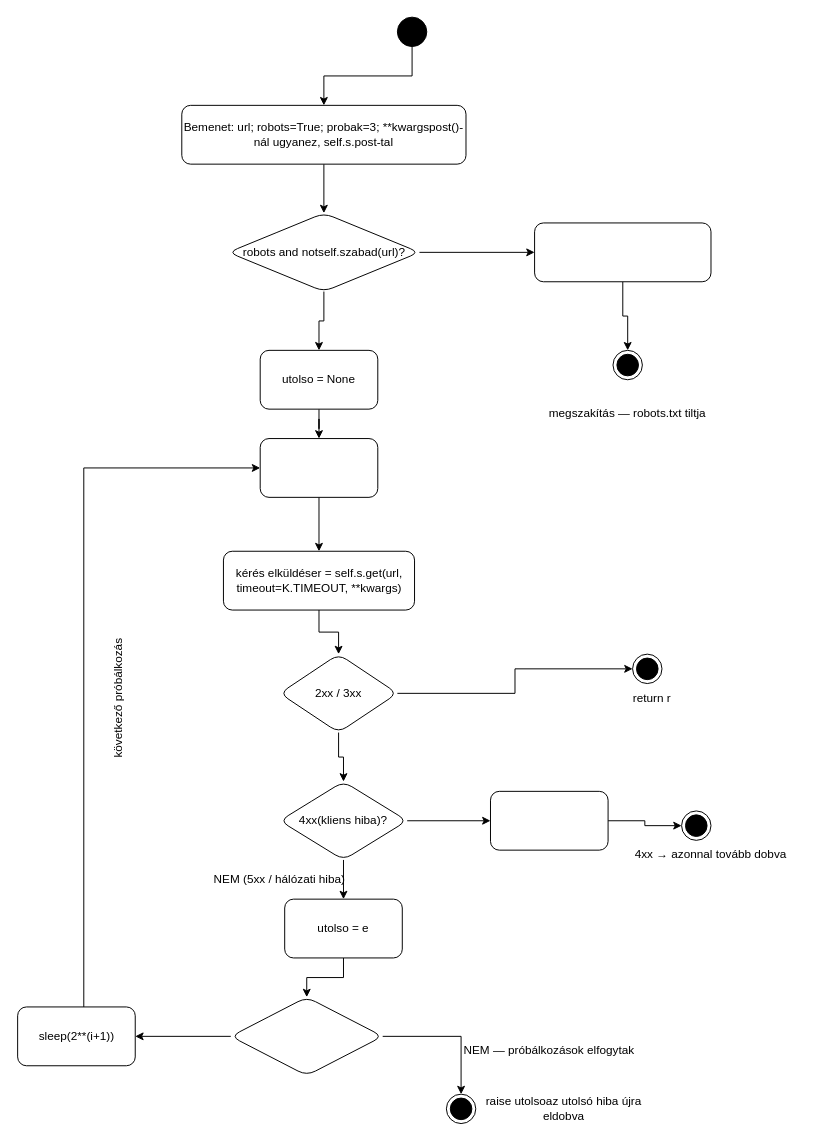
Image size: 815x1141. Some labels were removed from this diagram. Each missing label, with the box of its shape:
i < probak−1?: (230, 996, 383, 1076)
raise (nincs retry): (490, 790, 608, 850)
raise PermissionError: (534, 222, 711, 282)
self._var(url): (259, 438, 378, 497)
